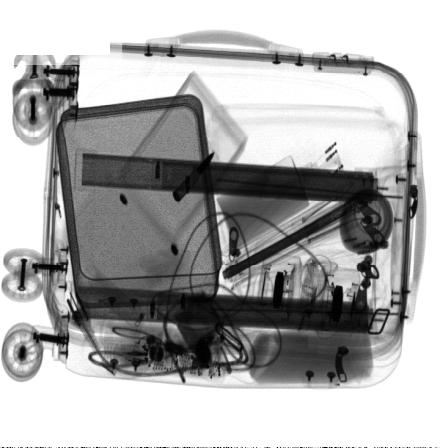Bullet: (171, 148, 216, 204)
